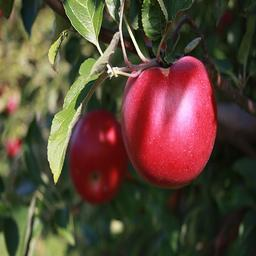apple: (124, 55, 217, 189), (69, 109, 128, 203)
